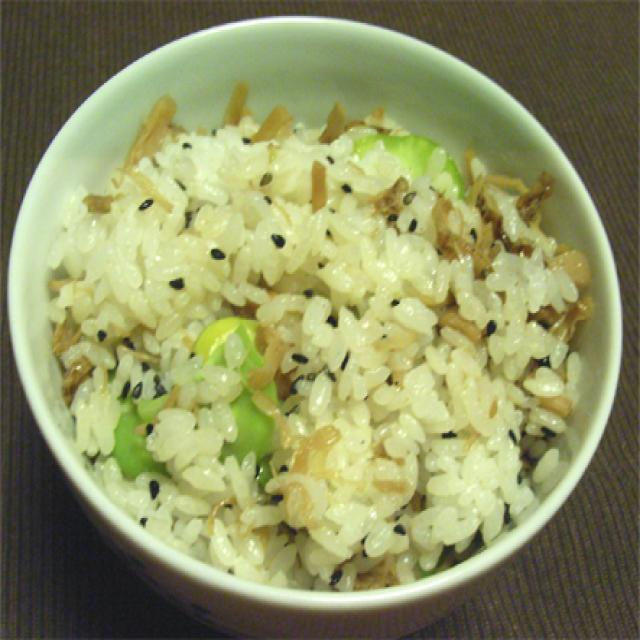米饭主食: (0, 7, 630, 626)
